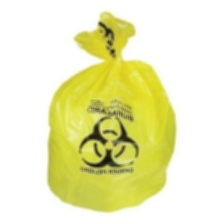plastic_bag: (35, 11, 183, 218)
